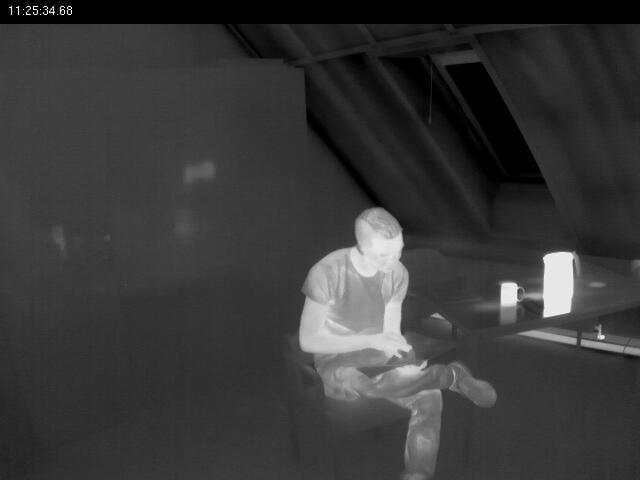person: (297, 208, 500, 479)
